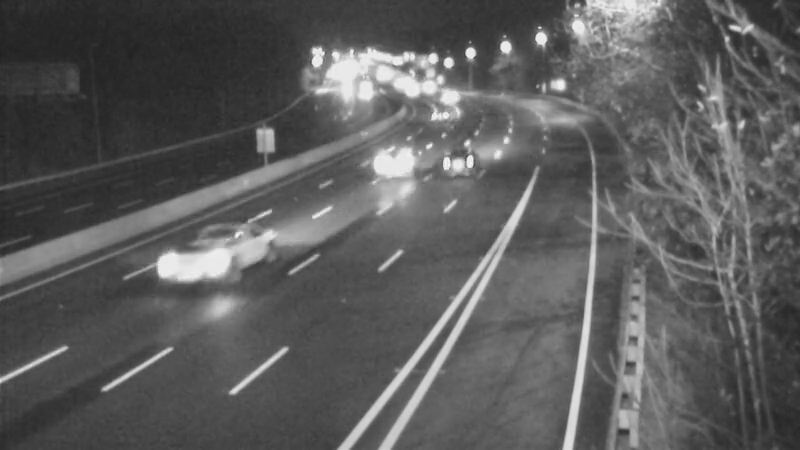vehicle: (351, 122, 431, 202), (422, 123, 502, 203), (164, 219, 244, 299), (402, 60, 452, 110), (385, 67, 435, 117), (420, 69, 470, 119), (411, 88, 461, 138)
